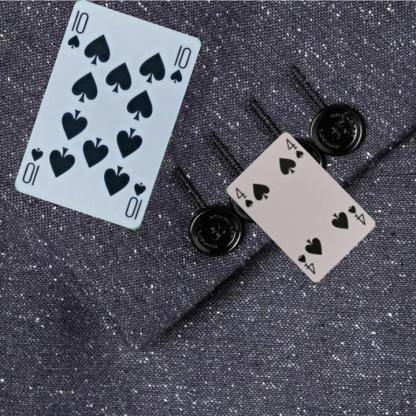10s: (122, 179, 148, 221), (64, 10, 90, 51)
4s: (345, 202, 367, 227), (232, 185, 254, 209)
